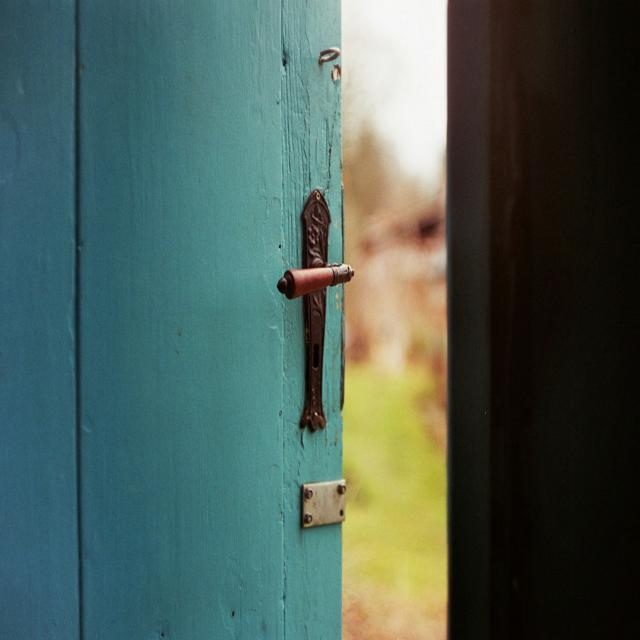door-handle: (278, 264, 354, 300)
